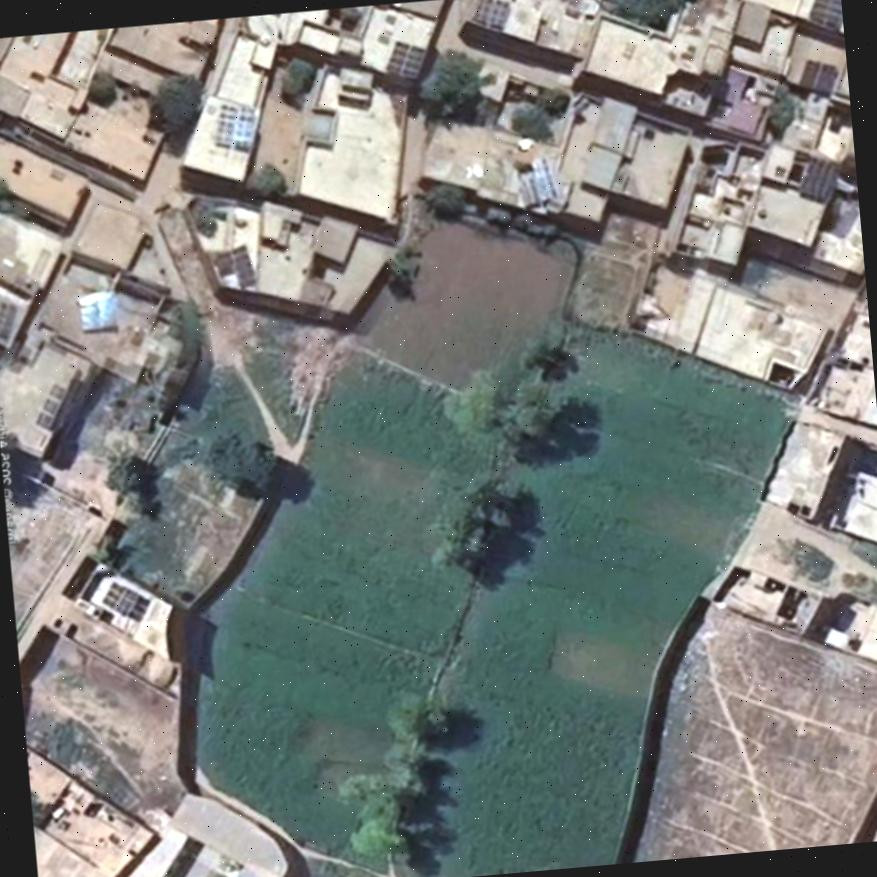Solarpanel: (796, 155, 840, 199), (212, 105, 255, 150), (80, 288, 114, 330), (386, 42, 423, 78), (529, 156, 553, 200), (472, 0, 509, 28), (808, 0, 841, 27), (812, 62, 836, 97), (797, 57, 818, 89)
